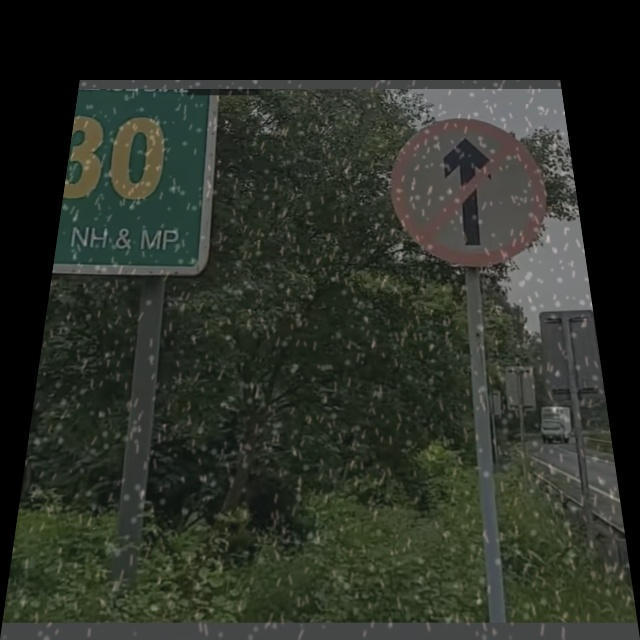No_Entry: (389, 117, 556, 263)
